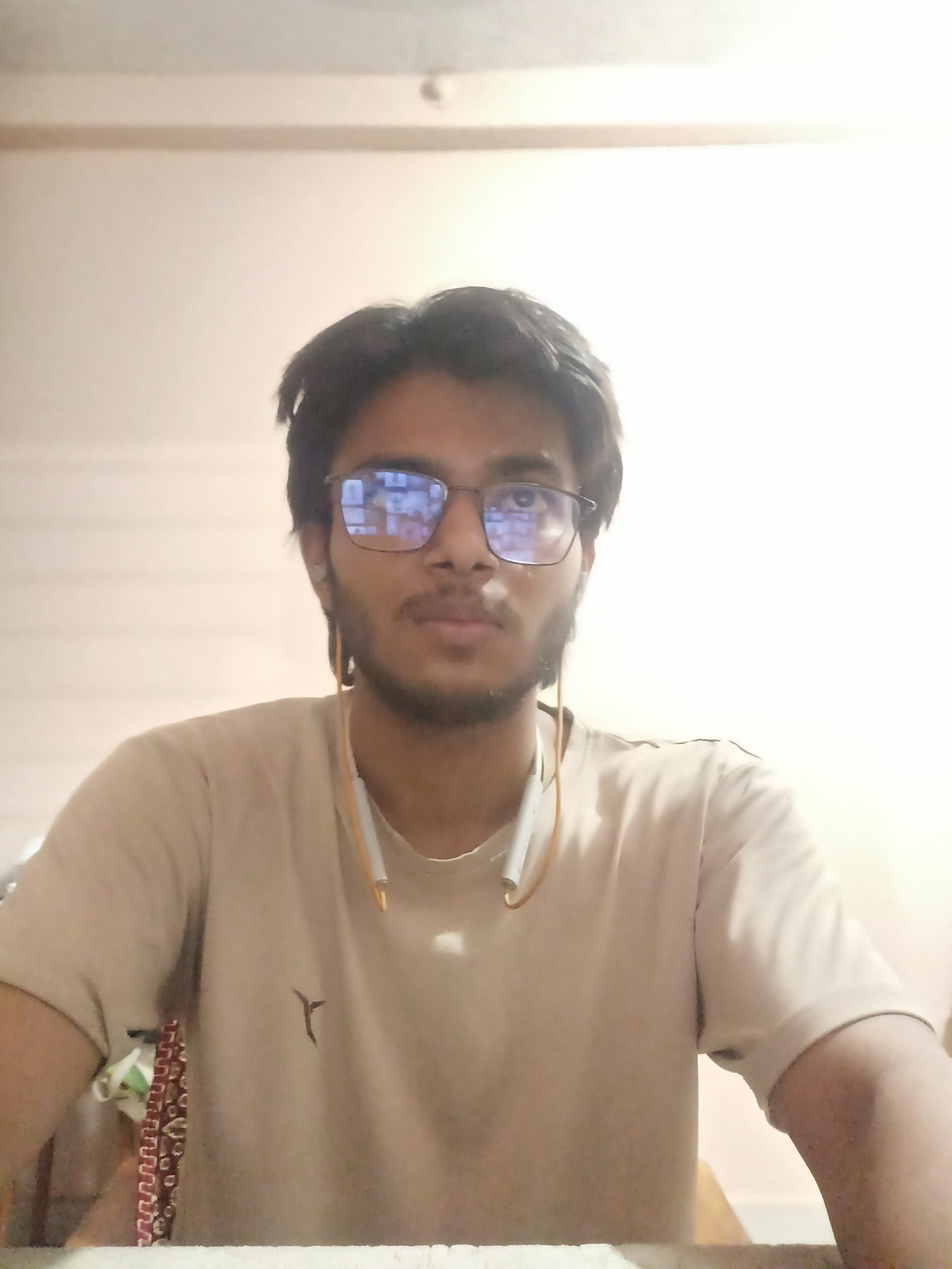Focused: (203, 190, 674, 742)
